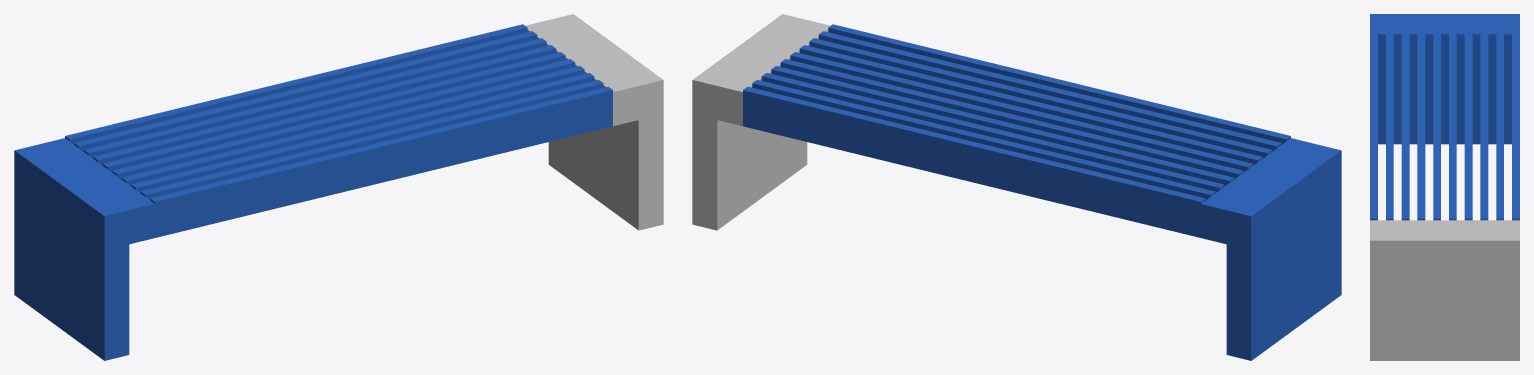
3 views of the same model, side by side, from view 1: azimuth 30°, elevation 25°; view 2: azimuth 150°, elevation 25°; view 3: azimuth 270°, elevation 25° (orthographic). The views are drawn at different scales.
Visible parts, largest first — view 1: mesh1_mesh1-geometry, mesh14_mesh14-geometry, mesh3_mesh3-geometry, mesh9_mesh9-geometry, mesh6_mesh6-geometry, mesh10_mesh10-geometry, mesh11_mesh11-geometry, mesh5_mesh5-geometry, mesh7_mesh7-geometry, mesh8_mesh8-geometry, mesh12_mesh12-geometry, mesh13_mesh13-geometry; view 2: mesh1_mesh1-geometry, mesh13_mesh13-geometry, mesh3_mesh3-geometry, mesh8_mesh8-geometry, mesh6_mesh6-geometry, mesh7_mesh7-geometry, mesh11_mesh11-geometry, mesh12_mesh12-geometry, mesh5_mesh5-geometry, mesh9_mesh9-geometry, mesh10_mesh10-geometry, mesh14_mesh14-geometry; view 3: mesh3_mesh3-geometry, mesh1_mesh1-geometry, mesh6_mesh6-geometry, mesh7_mesh7-geometry, mesh10_mesh10-geometry, mesh11_mesh11-geometry, mesh5_mesh5-geometry, mesh8_mesh8-geometry, mesh9_mesh9-geometry, mesh12_mesh12-geometry, mesh13_mesh13-geometry, mesh14_mesh14-geometry.
Part boxes in pixels (x1=…): mesh1_mesh1-geometry: x1=14, y1=138, x2=154, y2=360; mesh14_mesh14-geometry: x1=150, y1=86, x2=612, y2=237; mesh3_mesh3-geometry: x1=525, y1=14, x2=663, y2=230; mesh9_mesh9-geometry: x1=102, y1=52, x2=565, y2=172; mesh6_mesh6-geometry: x1=131, y1=73, x2=594, y2=193; mesh10_mesh10-geometry: x1=93, y1=45, x2=556, y2=165; mesh11_mesh11-geometry: x1=83, y1=38, x2=546, y2=158; mesh5_mesh5-geometry: x1=140, y1=80, x2=603, y2=200; mesh7_mesh7-geometry: x1=121, y1=66, x2=584, y2=186; mesh8_mesh8-geometry: x1=112, y1=59, x2=575, y2=179; mesh12_mesh12-geometry: x1=74, y1=31, x2=537, y2=151; mesh13_mesh13-geometry: x1=65, y1=24, x2=527, y2=144; mesh1_mesh1-geometry: x1=1201, y1=138, x2=1341, y2=360; mesh13_mesh13-geometry: x1=743, y1=86, x2=1205, y2=237; mesh3_mesh3-geometry: x1=692, y1=14, x2=830, y2=230; mesh8_mesh8-geometry: x1=790, y1=52, x2=1253, y2=172; mesh6_mesh6-geometry: x1=809, y1=38, x2=1272, y2=158; mesh7_mesh7-geometry: x1=799, y1=45, x2=1262, y2=165; mesh11_mesh11-geometry: x1=761, y1=73, x2=1224, y2=193; mesh12_mesh12-geometry: x1=752, y1=80, x2=1215, y2=200; mesh5_mesh5-geometry: x1=818, y1=31, x2=1281, y2=151; mesh9_mesh9-geometry: x1=780, y1=59, x2=1243, y2=179; mesh10_mesh10-geometry: x1=771, y1=66, x2=1234, y2=186; mesh14_mesh14-geometry: x1=828, y1=24, x2=1290, y2=144; mesh3_mesh3-geometry: x1=1370, y1=220, x2=1519, y2=360; mesh1_mesh1-geometry: x1=1370, y1=14, x2=1519, y2=144; mesh6_mesh6-geometry: x1=1401, y1=32, x2=1409, y2=220; mesh7_mesh7-geometry: x1=1417, y1=32, x2=1425, y2=220; mesh10_mesh10-geometry: x1=1464, y1=32, x2=1472, y2=220; mesh11_mesh11-geometry: x1=1480, y1=32, x2=1488, y2=220; mesh5_mesh5-geometry: x1=1386, y1=32, x2=1393, y2=220; mesh8_mesh8-geometry: x1=1433, y1=32, x2=1440, y2=220; mesh9_mesh9-geometry: x1=1449, y1=32, x2=1456, y2=220; mesh12_mesh12-geometry: x1=1496, y1=32, x2=1503, y2=220; mesh13_mesh13-geometry: x1=1512, y1=32, x2=1519, y2=220; mesh14_mesh14-geometry: x1=1370, y1=32, x2=1377, y2=220.
Size of the model in its own units: 0.9362 by 0.2349 by 0.2614.
